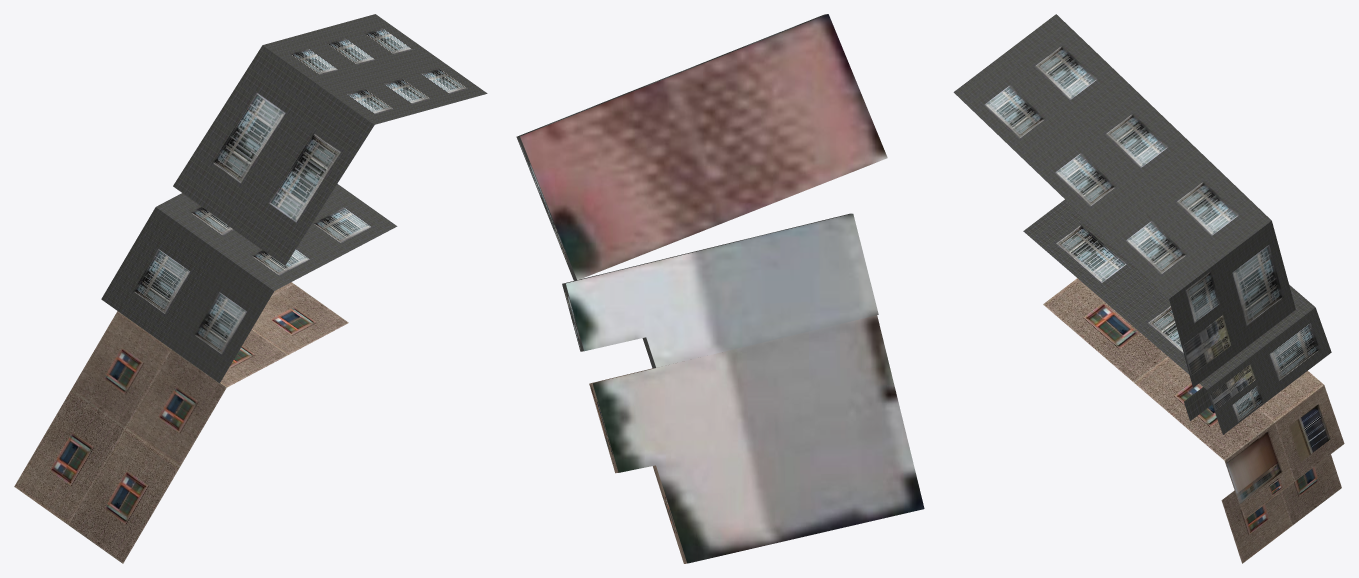
3 renders of one model, left to right at view 1: azimuth 30°, elevation 25°; view 2: azimuth 150°, elevation 25°; view 3: azimuth 270°, elevation 25°, orthographic. The views are drawn at different scales.
Size of the model in its own units: 25.69 by 29.21 by 19.86.
Materials: 12 (12 with a texture image).
